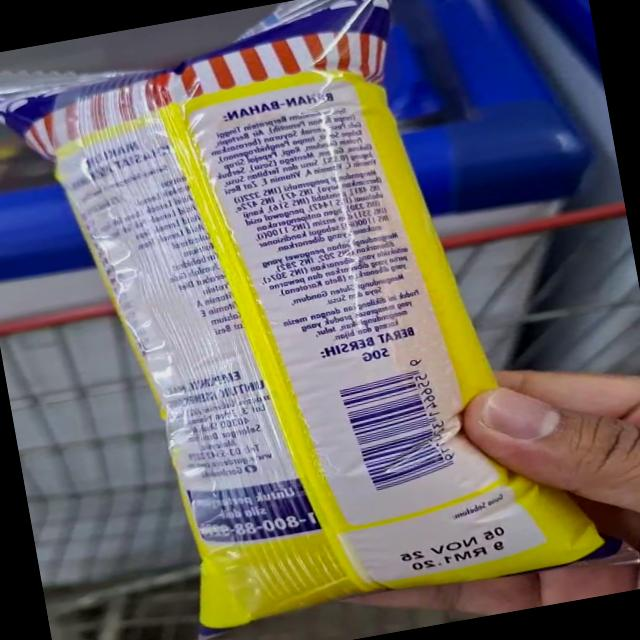Roti: (0, 0, 519, 640)
